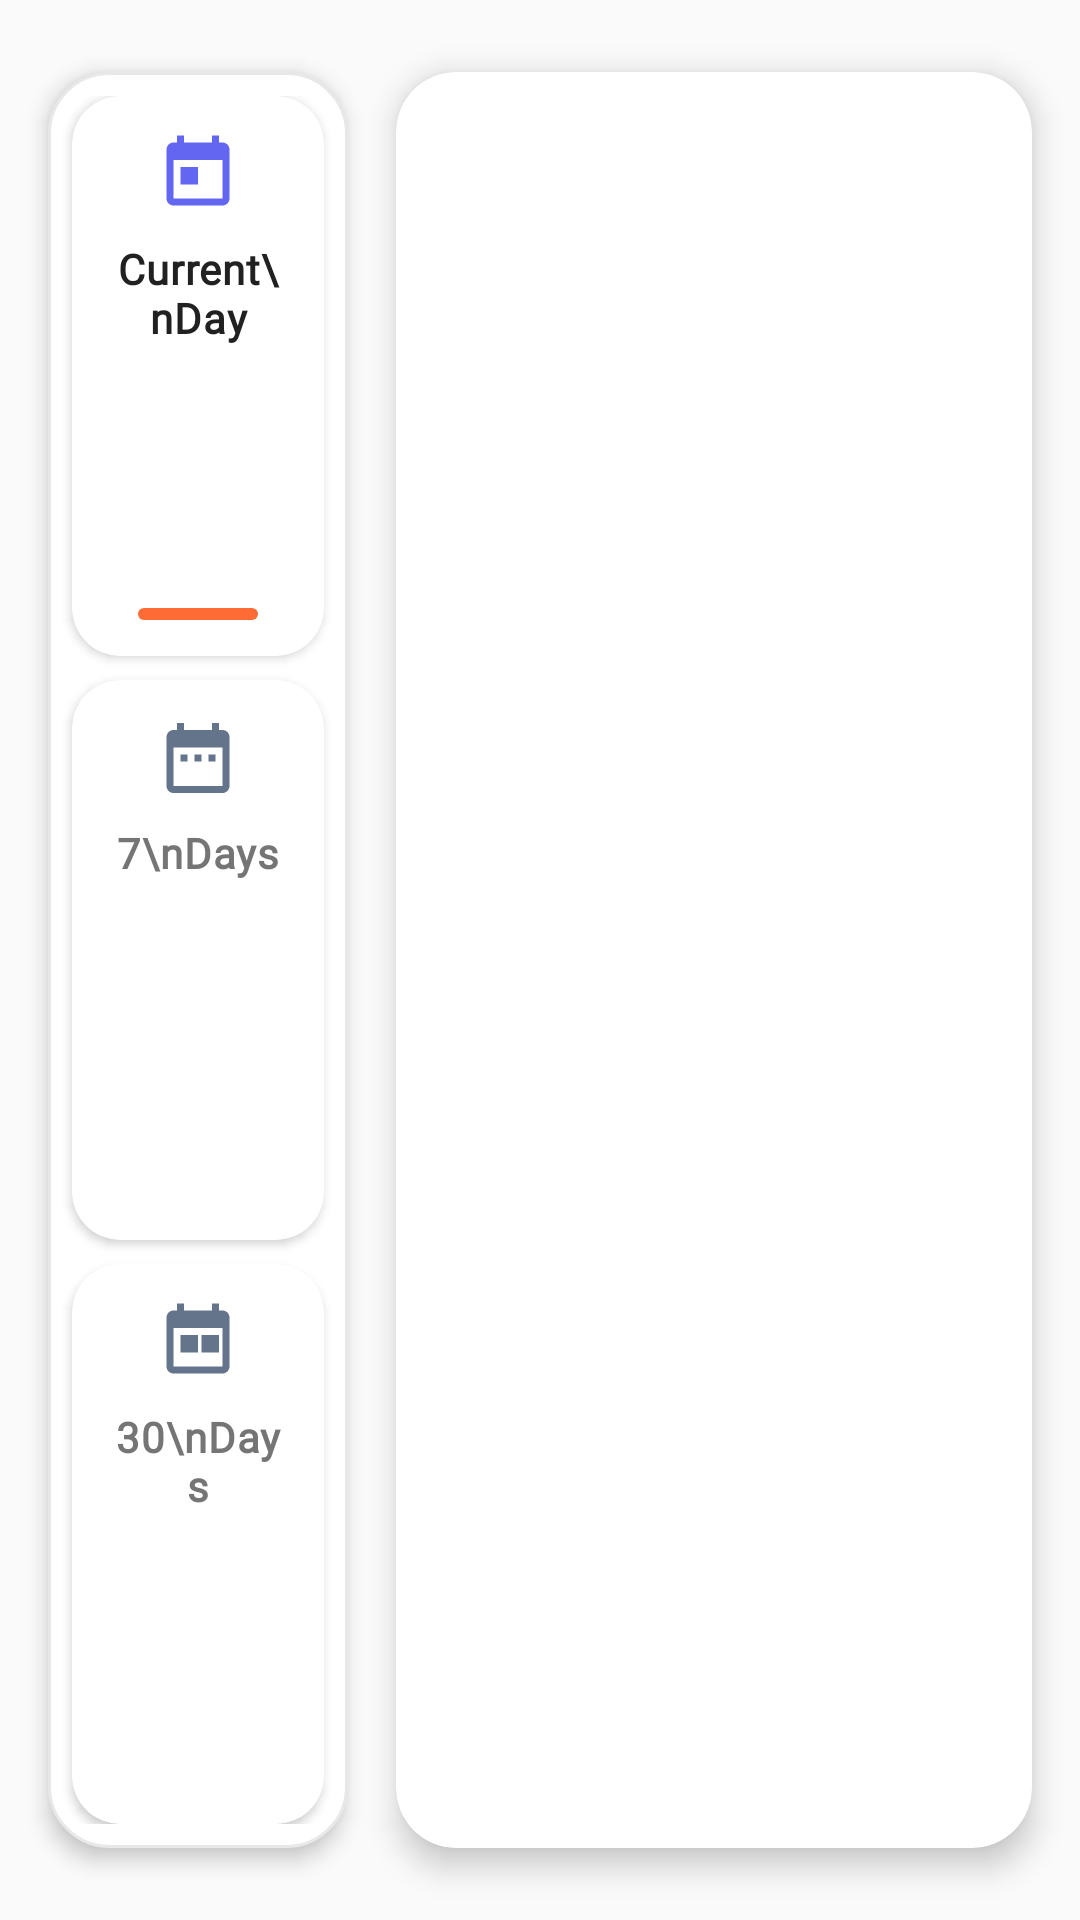

Icons on this 1080x1920 Android screen, each with its box as (x1, y1, x2, y2):
month: (166, 1303, 230, 1374)
today: (166, 135, 230, 206)
week: (166, 723, 230, 793)
